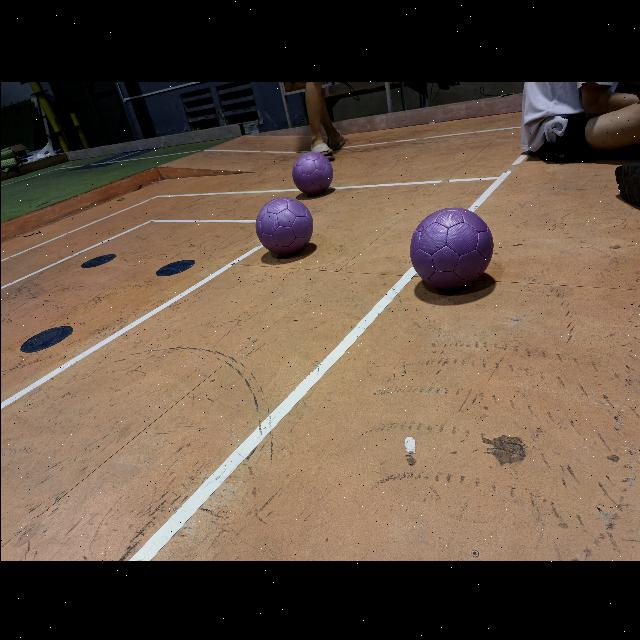P: (409, 206, 491, 286), (254, 195, 312, 252), (291, 150, 331, 192)
